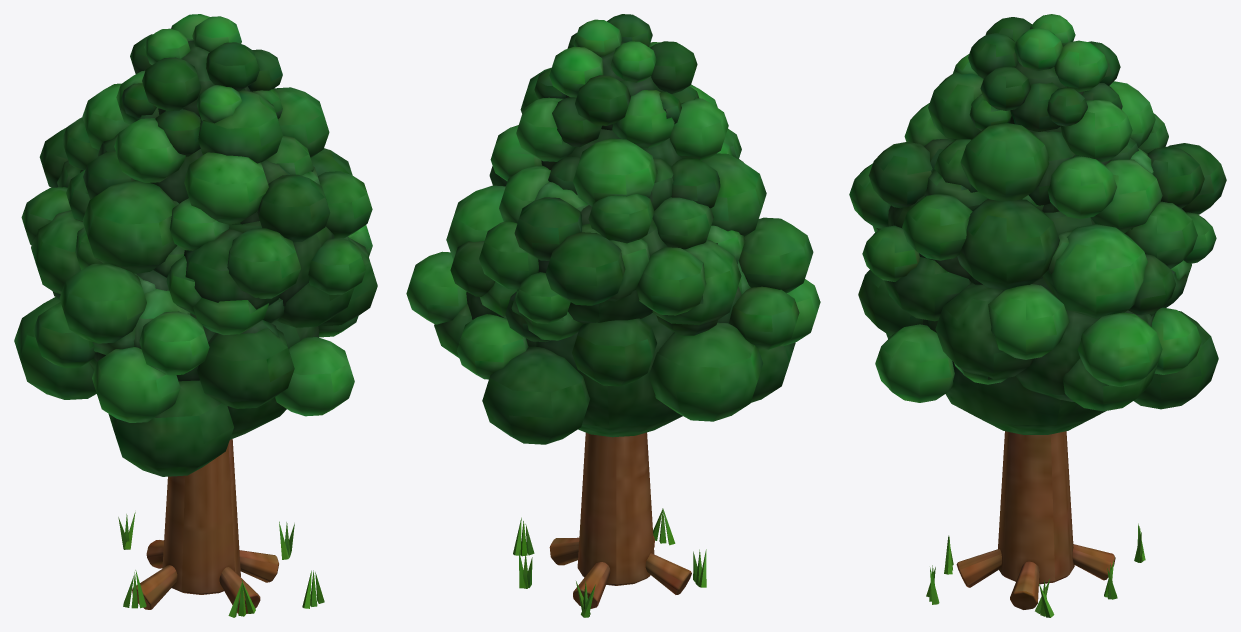
Rendered from cinnamon_tree.glb.
3 views of the same model, side by side, from view 1: azimuth 30°, elevation 25°; view 2: azimuth 150°, elevation 25°; view 3: azimuth 270°, elevation 25° (orthographic).
Parts seen in each view (by area): view 1: crown, cinnamon_tree; view 2: crown, cinnamon_tree; view 3: crown, cinnamon_tree.
Part boxes in pixels (x1,y1,x2,y2): crown: (14, 14, 377, 476); cinnamon_tree: (118, 439, 324, 617); crown: (406, 14, 820, 444); cinnamon_tree: (513, 432, 706, 617); crown: (849, 14, 1226, 434); cinnamon_tree: (926, 431, 1145, 617).
Size of the model in its own units: 0.8901 by 1.42 by 0.8682.
1 material, 1 textured.
